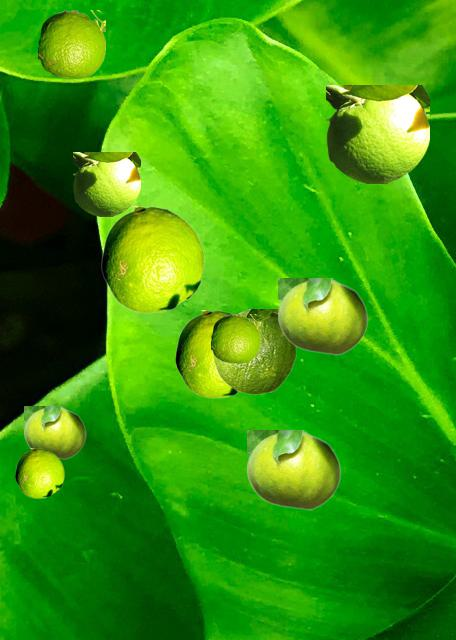dalandan: (101, 206, 203, 312), (326, 85, 428, 182), (247, 430, 340, 509), (213, 309, 296, 393), (278, 278, 367, 354), (175, 310, 237, 397), (38, 10, 104, 77), (73, 152, 139, 215), (24, 406, 85, 458), (15, 448, 63, 497), (211, 314, 259, 362)
